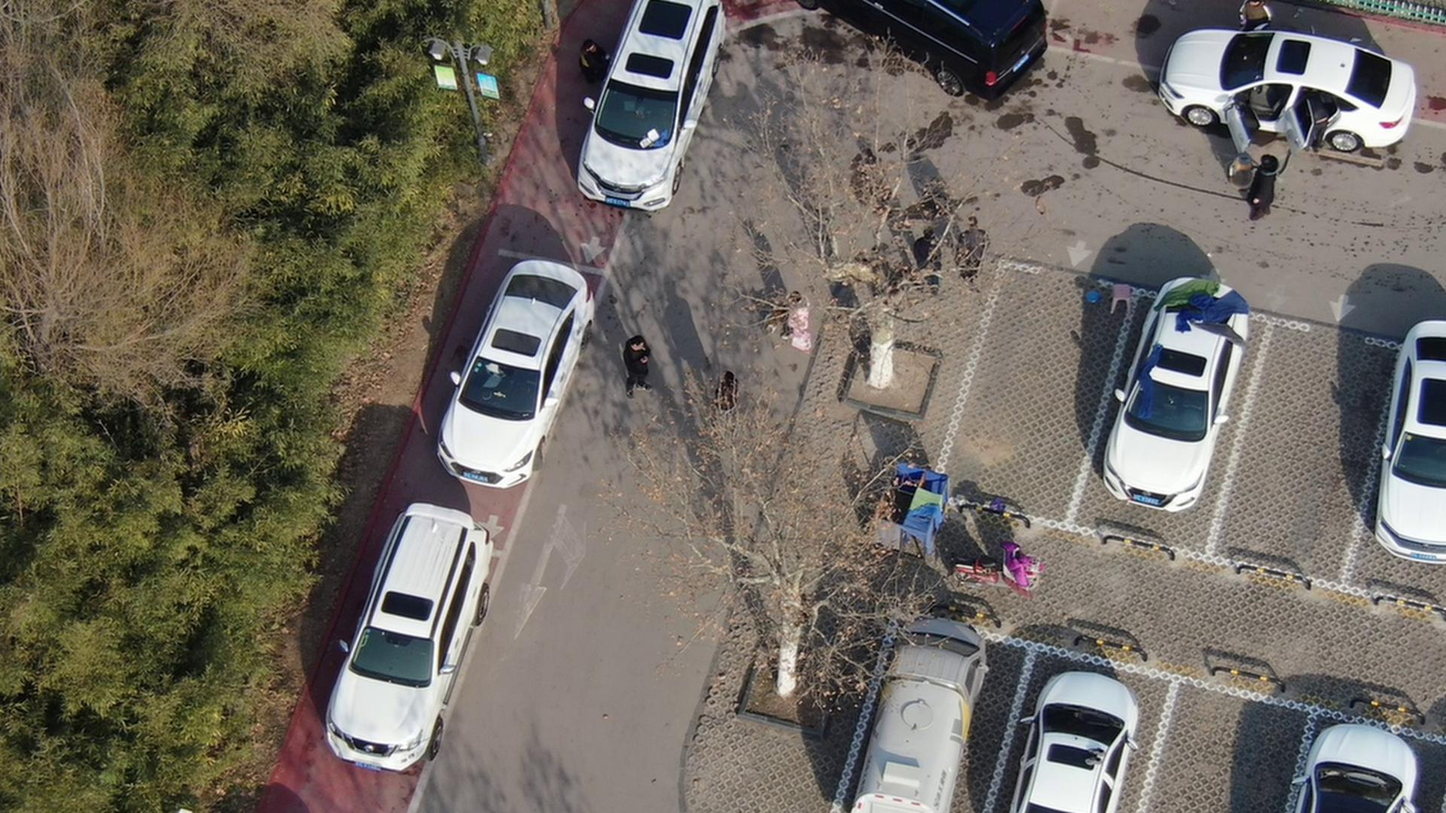human: (956, 218, 1007, 293), (1255, 148, 1293, 225), (917, 219, 953, 297), (790, 279, 822, 365), (1301, 84, 1338, 157), (710, 362, 746, 436), (620, 333, 655, 405), (581, 29, 621, 88), (1248, 1, 1282, 33)
